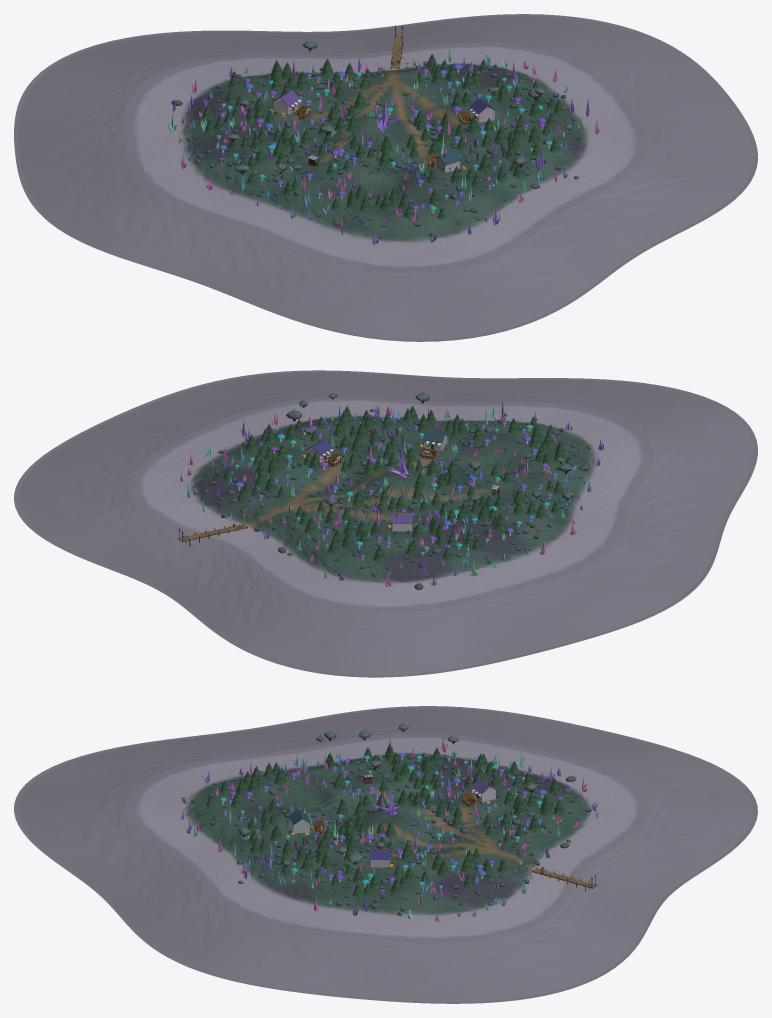
The model's file is glim.glb.
3 views of the same model, one above another, from view 1: azimuth 30°, elevation 25°; view 2: azimuth 150°, elevation 25°; view 3: azimuth 270°, elevation 25° (orthographic). The views are drawn at different scales.
Parts seen in each view (by area): view 1: glim; view 2: glim; view 3: glim.
Part boxes in pixels (box(x1,y1,x2,y2)): glim: box(14, 14, 757, 341); glim: box(14, 370, 757, 677); glim: box(14, 706, 757, 1003).
Bounding box in the file's own units: 282 × 30.04 × 297.
